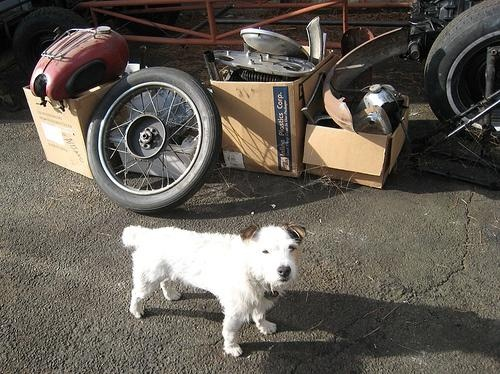dog: (120, 218, 302, 359)
